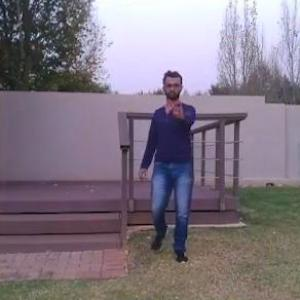takeoff-hand: (166, 91, 188, 120)
